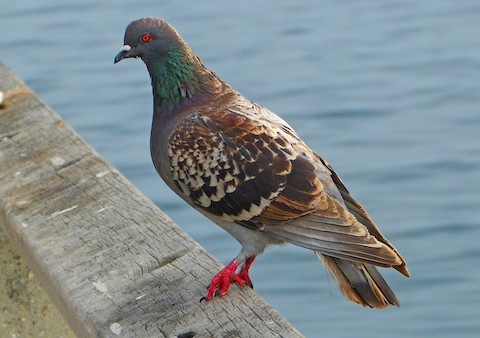pigeon: (109, 16, 420, 312)
